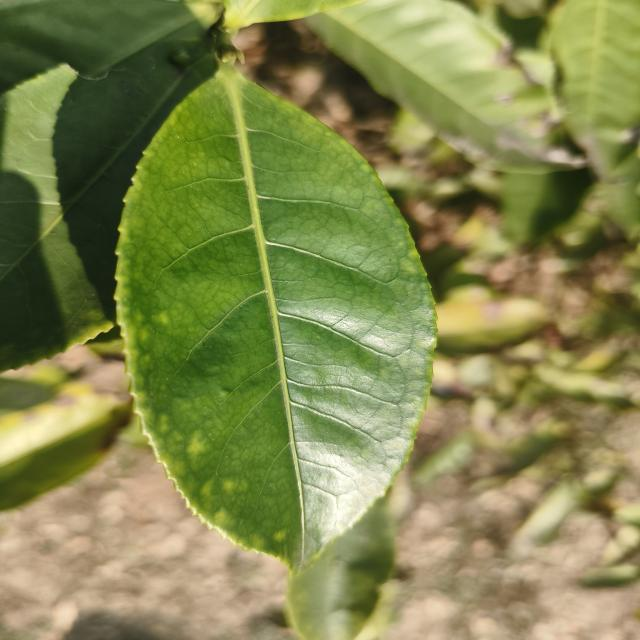Leaf: (117, 67, 435, 572), (0, 21, 215, 368), (306, 0, 579, 173), (0, 379, 131, 510), (287, 496, 394, 640), (552, 0, 640, 168), (501, 168, 592, 243), (436, 298, 546, 353), (511, 480, 582, 555), (415, 430, 476, 484)
